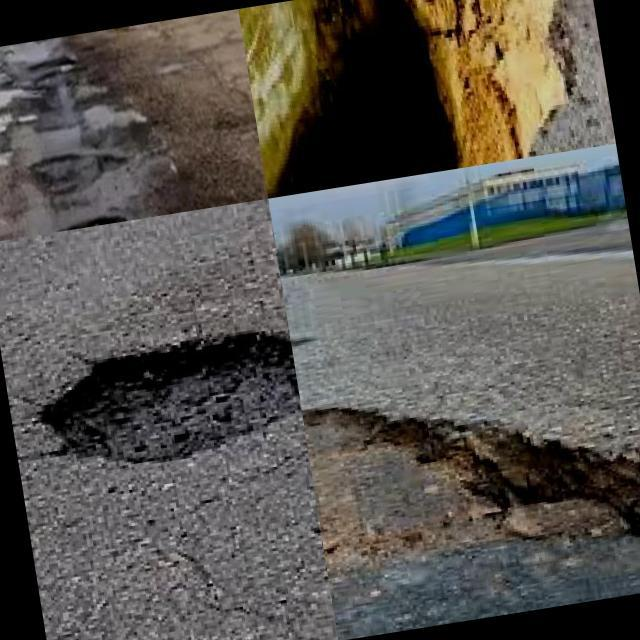Pothole: (300, 397, 640, 640), (238, 0, 572, 199), (42, 334, 301, 467), (0, 108, 36, 128), (0, 147, 14, 169)
